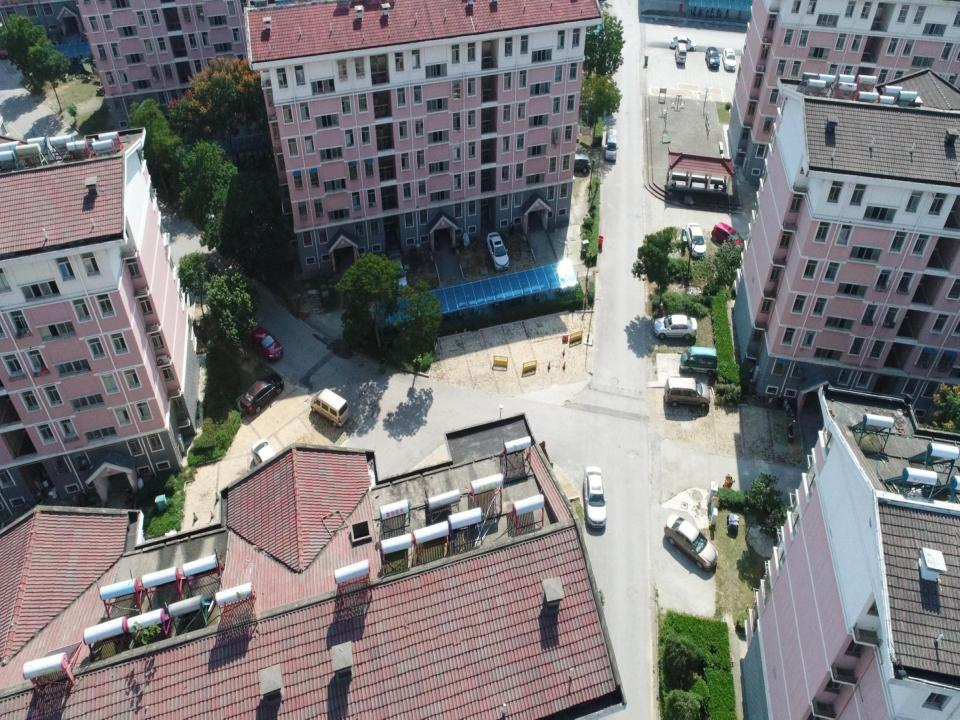car: (664, 514, 718, 570), (240, 373, 284, 414), (582, 466, 608, 529), (245, 324, 283, 362), (251, 438, 281, 478), (653, 315, 697, 340), (711, 222, 746, 253), (486, 232, 510, 270), (387, 252, 407, 292), (684, 222, 706, 258), (670, 36, 697, 52), (705, 46, 720, 69), (722, 48, 737, 70)
van: (310, 388, 350, 428), (665, 377, 710, 407), (680, 346, 717, 376), (604, 129, 618, 161), (570, 154, 591, 173), (674, 43, 687, 64)
